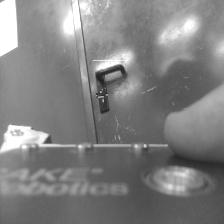Door Handle: (93, 60, 127, 81)
Lock: (98, 91, 106, 99)
